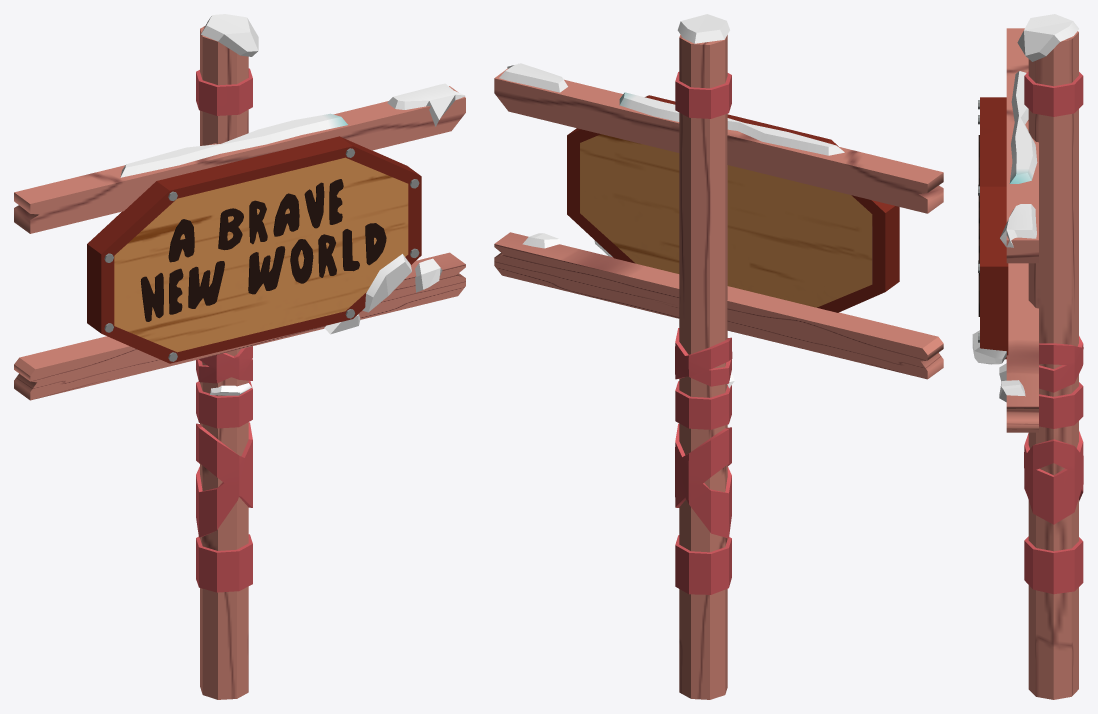
The model's file is Asset_NewWorldSign.fbx.
3 views of the same model, side by side, from view 1: azimuth 30°, elevation 25°; view 2: azimuth 150°, elevation 25°; view 3: azimuth 270°, elevation 25° (orthographic).
Visible parts, largest first — view 1: polySurface312; view 2: polySurface312; view 3: polySurface312.
Part boxes in pixels (<box>): polySurface312: <box>14,14,465,699</box>; polySurface312: <box>494,14,943,699</box>; polySurface312: <box>972,14,1083,699</box>.
Size of the model in its own units: 129 by 188 by 28.37.
